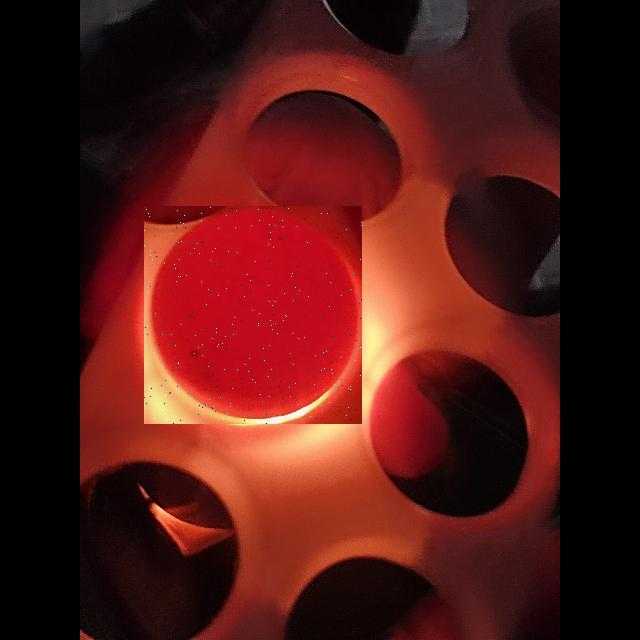Infertile: (144, 206, 362, 424)
